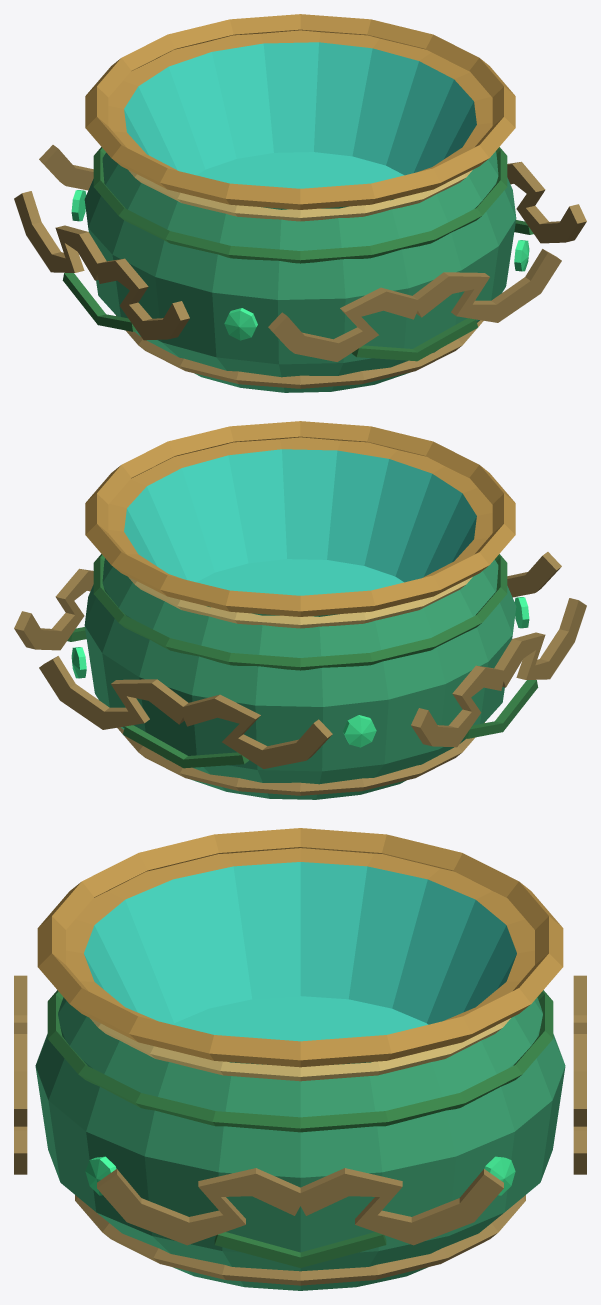
The model's file is jade_cauldron.obj.
The picture shows the model from 3 angles, top to bottom: view 1: azimuth 30°, elevation 25°; view 2: azimuth 150°, elevation 25°; view 3: azimuth 270°, elevation 25°; orthographic projection. The views are drawn at different scales.
Parts seen in each view (by area): view 1: jade_cauldron, jade_cauldron_inner, jade_mouth_band, jade_cauldron_rim, jade_shoulder_band, jade_cauldron_hearth, jade_lower_band, jade_neck_band, cauldron_cloud_00_cloud_left, cauldron_cloud_00_cloud_right, cauldron_cloud_03_cloud_left, cauldron_cloud_03_cloud_right (+12 smaller); view 2: jade_cauldron, jade_cauldron_inner, jade_mouth_band, jade_cauldron_rim, jade_shoulder_band, jade_cauldron_hearth, jade_lower_band, jade_neck_band, cauldron_cloud_02_cloud_left, cauldron_cloud_02_cloud_right, cauldron_cloud_03_cloud_left, cauldron_cloud_03_cloud_right (+12 smaller); view 3: jade_cauldron, jade_cauldron_inner, jade_mouth_band, jade_cauldron_rim, jade_shoulder_band, jade_cauldron_hearth, jade_lower_band, cauldron_cloud_01_cloud_left, cauldron_cloud_01_cloud_right, jade_neck_band, cauldron_cloud_01_cloud_tail, cauldron_cloud_01_cloud_left_edge (+8 smaller).
Part boxes in pixels (<box>): jade_cauldron: <box>84,151,516,392</box>; jade_cauldron_inner: <box>124,42,476,175</box>; jade_mouth_band: <box>85,14,515,209</box>; jade_cauldron_rim: <box>108,30,492,172</box>; jade_shoulder_band: <box>93,147,507,263</box>; jade_cauldron_hearth: <box>197,152,404,188</box>; jade_lower_band: <box>116,315,483,388</box>; jade_neck_band: <box>128,170,472,221</box>; cauldron_cloud_00_cloud_left: <box>273,291,421,361</box>; cauldron_cloud_00_cloud_right: <box>416,253,561,322</box>; cauldron_cloud_03_cloud_left: <box>14,193,99,279</box>; cauldron_cloud_03_cloud_right: <box>95,261,180,340</box>; jade_cauldron: <box>84,558,516,799</box>; jade_cauldron_inner: <box>124,449,476,582</box>; jade_mouth_band: <box>85,421,515,616</box>; jade_cauldron_rim: <box>108,437,492,579</box>; jade_shoulder_band: <box>93,554,507,670</box>; jade_cauldron_hearth: <box>196,559,403,595</box>; jade_lower_band: <box>117,722,484,795</box>; jade_neck_band: <box>128,577,472,628</box>; cauldron_cloud_02_cloud_left: <box>39,660,186,729</box>; cauldron_cloud_02_cloud_right: <box>179,698,327,768</box>; cauldron_cloud_03_cloud_left: <box>420,668,505,747</box>; cauldron_cloud_03_cloud_right: <box>503,600,586,686</box>; jade_cauldron: <box>35,997,565,1290</box>; jade_cauldron_inner: <box>84,862,516,1024</box>; jade_mouth_band: <box>37,828,563,1067</box>; jade_cauldron_rim: <box>66,848,534,1020</box>; jade_shoulder_band: <box>47,990,553,1132</box>; jade_cauldron_hearth: <box>172,996,428,1041</box>; jade_lower_band: <box>75,1195,525,1285</box>; cauldron_cloud_01_cloud_left: <box>97,1174,305,1245</box>; cauldron_cloud_01_cloud_right: <box>295,1174,503,1245</box>; jade_neck_band: <box>90,1018,510,1081</box>; cauldron_cloud_01_cloud_tail: <box>215,1235,385,1267</box>; cauldron_cloud_01_cloud_left_edge: <box>97,1168,300,1223</box>.
Size of the model in its own units: 1.36 by 0.774 by 1.36.
